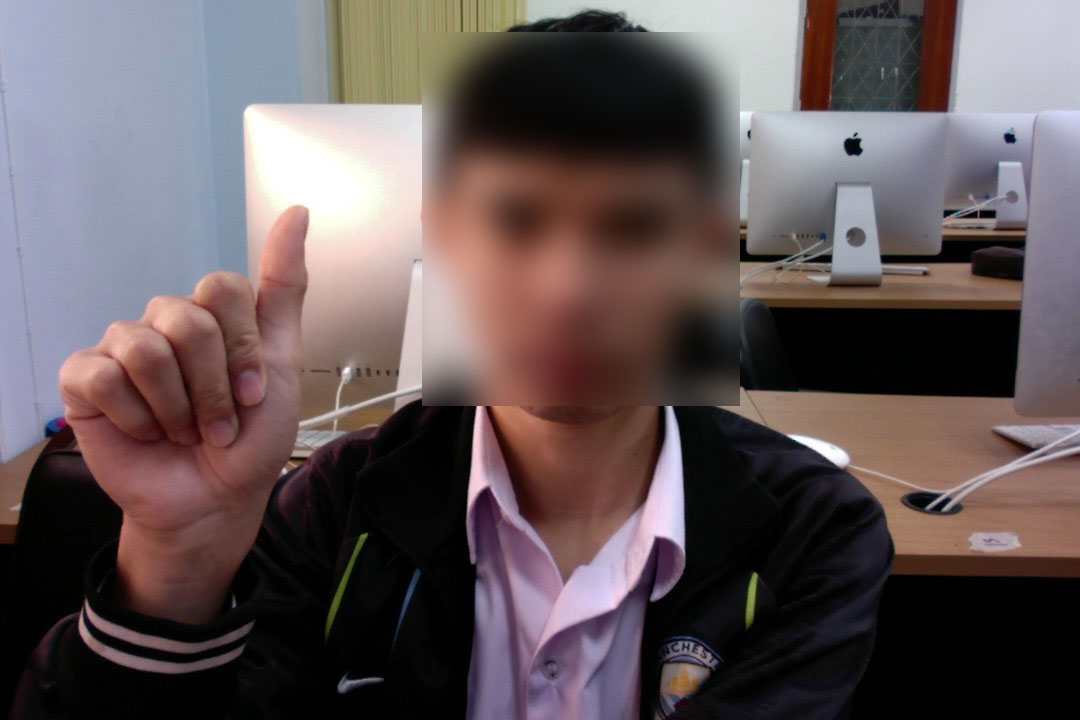or: (52, 191, 326, 574)
